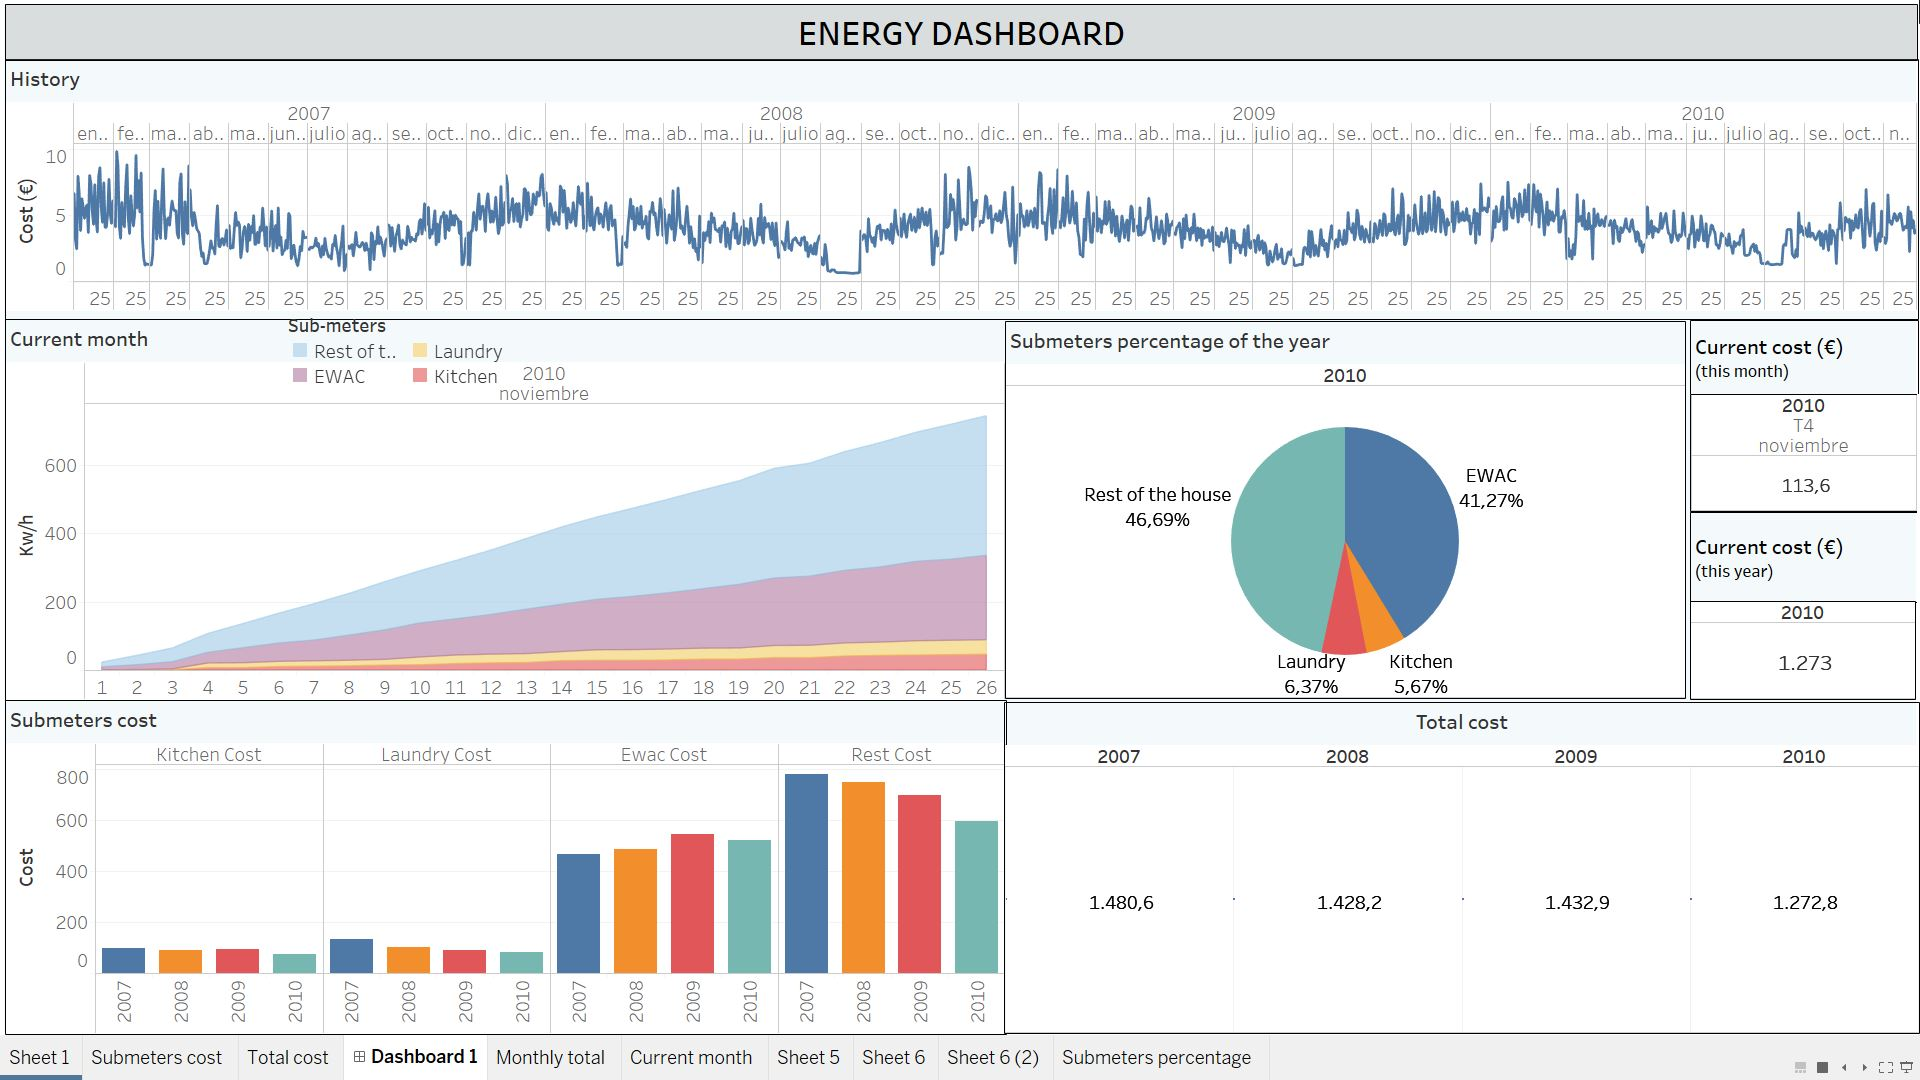

This screenshot's page, from the dashboard's own definition file:
{"tool":"tableau","page":{"name":"Dashboard 1","canvas":[1000,1000],"units":"permille","ordinal":0},"visuals":[{"type":"blank","box":[0,0,1000,1000]},{"type":"text","box":[2.5,3.7,996.3,55]},{"type":"worksheet","title":"Monthly total","mark":"Line","rows":["dayly_cost_total"],"cols":["DateTime","DateTime"],"box":[2.5,57.5,996.9,251.8]},{"type":"legend","title":"Current month","param":"[federated.1afrgnp08453631ec523n1h6rohc].[:Measure Names]","box":[149.8,301.1,372.4,81.2]},{"type":"worksheet","title":"Current month","mark":"Area","cols":["DateTime","DateTime","DateTime"],"box":[2.5,308.1,521.2,369.2]},{"type":"text","box":[880,308.9,119.3,72]},{"type":"worksheet","title":"Submeters percentage","mark":"Pie","cols":["DateTime"],"box":[523.6,310.2,354.9,365.2]},{"type":"worksheet","title":"Sheet 6","mark":"Automatic","cols":["DateTime","DateTime","DateTime"],"box":[880,380.9,118.5,113.9]},{"type":"text","box":[880,494.8,118.5,87.7]},{"type":"worksheet","title":"Sheet 6 (2)","mark":"Automatic","cols":["DateTime"],"box":[880,581.1,117.8,95.5]},{"type":"worksheet","title":"Submeters cost","mark":"Bar","cols":["DateTime"],"box":[2.5,676,521.8,324]},{"type":"worksheet","title":"Total cost","mark":"Bar","cols":["DateTime"],"box":[522.9,678,477.1,320.7]}]}

Visuals, with their boxes on the dashboard's canvas, which has no fixed pixel size, in thousandths of its width and height (x1, y1, x2, y2). These are canvas units, not pixel positions in the 1920x1080 screenshot, which may show the page scaled, cropped or inside an application window:
blank: bbox=[0, 0, 1000, 1000]
text: bbox=[2, 4, 999, 59]
"Monthly total" worksheet (Line marks): bbox=[2, 58, 999, 309]
"Current month" legend: bbox=[150, 301, 522, 382]
"Current month" worksheet (Area marks): bbox=[2, 308, 524, 677]
text: bbox=[880, 309, 999, 381]
"Submeters percentage" worksheet (Pie marks): bbox=[524, 310, 878, 675]
"Sheet 6" worksheet: bbox=[880, 381, 998, 495]
text: bbox=[880, 495, 998, 582]
"Sheet 6 (2)" worksheet: bbox=[880, 581, 998, 677]
"Submeters cost" worksheet (Bar marks): bbox=[2, 676, 524, 1000]
"Total cost" worksheet (Bar marks): bbox=[523, 678, 1000, 999]
